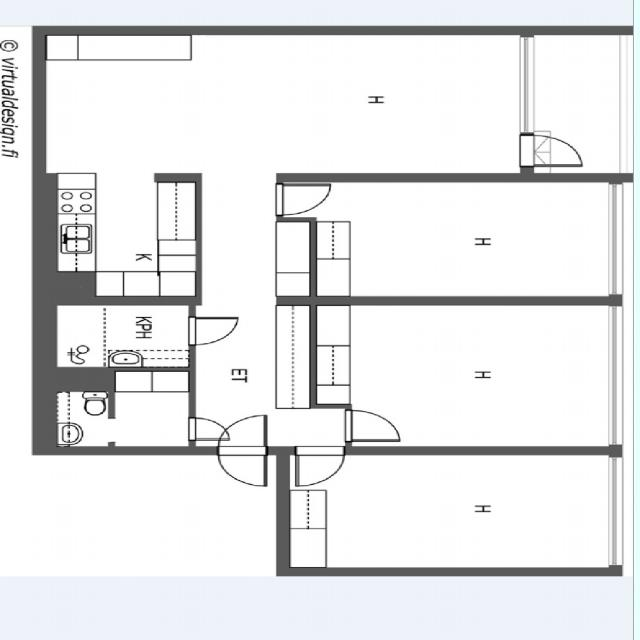door: (296, 446, 344, 485), (520, 135, 580, 166), (220, 416, 266, 455), (220, 446, 266, 485), (276, 184, 330, 215), (345, 410, 398, 440), (189, 317, 237, 345), (189, 418, 228, 439)
